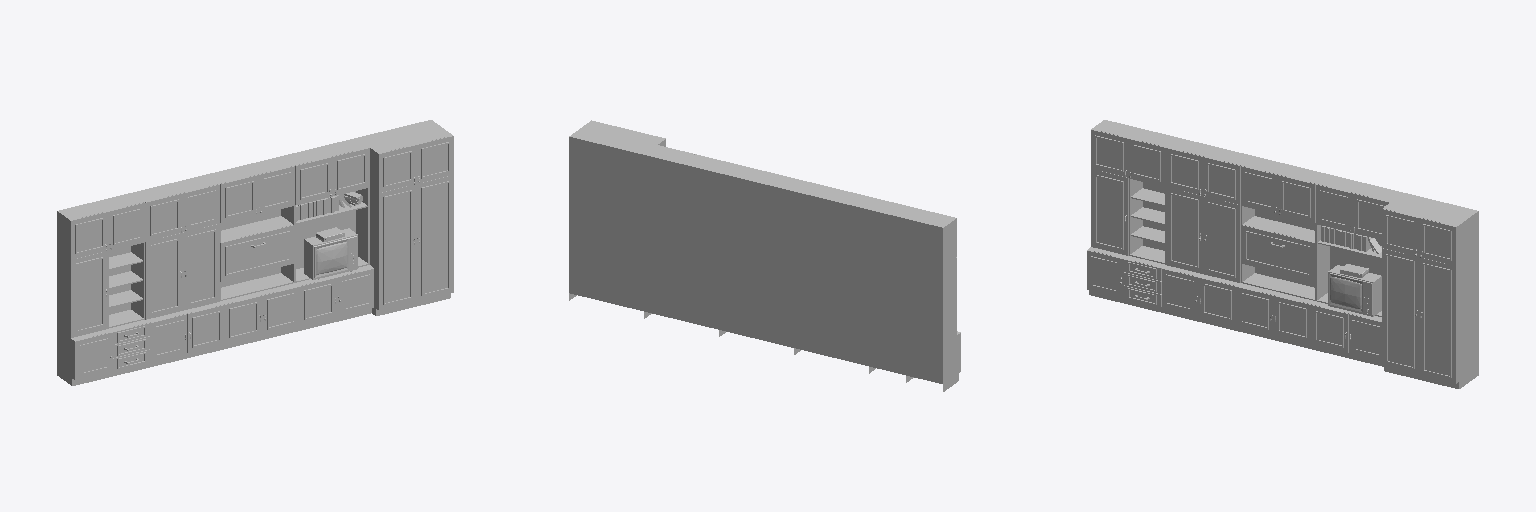
File: cupboard.obj
The picture shows the model from 3 angles: view 1: azimuth 30°, elevation 25°; view 2: azimuth 150°, elevation 25°; view 3: azimuth 330°, elevation 25°; orthographic projection.
Visible parts, largest first — view 1: Box053, Box075, Box058, Box054, Box069, Box070, Box045, Box063, Box042, Box047, Box114, Box084 (+25 smaller); view 2: Box041, Box045, Box067, Box063, Box042, Box072, Box044, Box066, Box062, Box043, Box061, Box065 (+5 smaller); view 3: Box053, Box075, Box058, Box070, Box069, Box054, Box041, Box042, Box063, Box047, Box045, Box111 (+23 smaller).
Part boxes in pixels (x1,y1,x2,y2): Box053: (416, 175, 453, 301); Box075: (378, 184, 415, 310); Box058: (70, 251, 107, 337); Box054: (145, 233, 182, 319); Box069: (220, 225, 295, 281); Box070: (183, 224, 219, 310); Box045: (295, 187, 369, 282); Box063: (220, 205, 294, 300); Box042: (358, 120, 452, 191); Box047: (108, 242, 144, 328); Box114: (262, 286, 299, 334); Box084: (220, 175, 257, 222); Box041: (569, 176, 643, 310); Box045: (644, 194, 718, 290); Box067: (794, 231, 868, 326); Box063: (719, 212, 793, 308); Box042: (569, 121, 665, 193); Box072: (906, 258, 955, 344); Box044: (644, 145, 730, 211); Box066: (794, 182, 880, 248); Box062: (719, 164, 805, 230); Box043: (644, 272, 718, 329); Box061: (719, 291, 793, 347); Box065: (794, 309, 868, 365); Box053: (1419, 257, 1456, 383); Box075: (1382, 248, 1418, 373); Box058: (1091, 169, 1128, 255); Box070: (1203, 196, 1240, 282); Box069: (1241, 225, 1315, 281); Box054: (1166, 187, 1202, 273); Box041: (1457, 250, 1478, 382); Box042: (1382, 193, 1478, 265); Box063: (1241, 205, 1315, 300); Box047: (1129, 178, 1165, 264); Box045: (1316, 224, 1381, 316); Box111: (1236, 286, 1273, 334).
Size of the model in its own units: 5 by 2.1 by 0.5389.